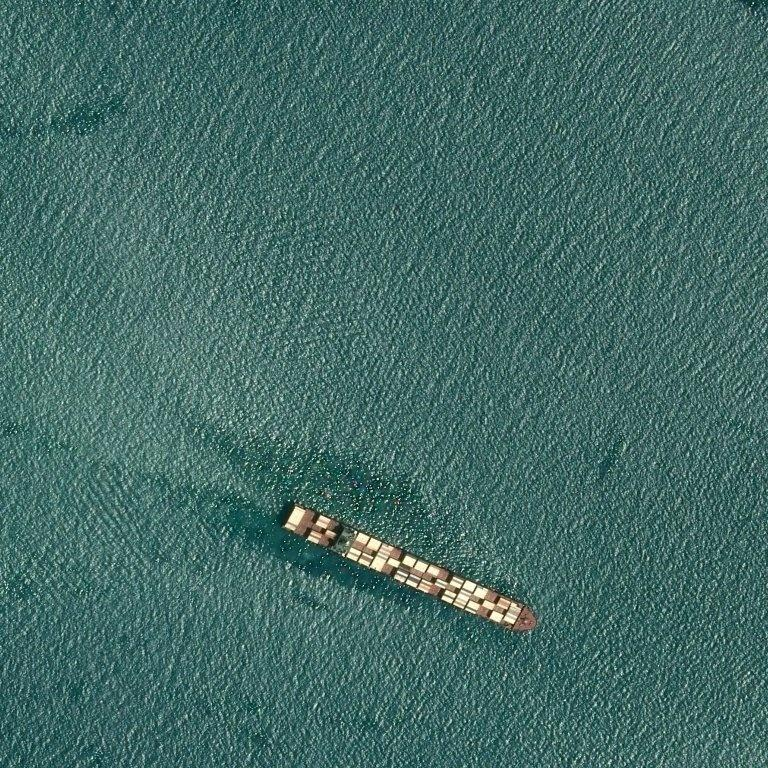ship: (278, 537, 544, 599), (294, 507, 299, 511), (534, 624, 538, 628), (52, 525, 57, 528)
